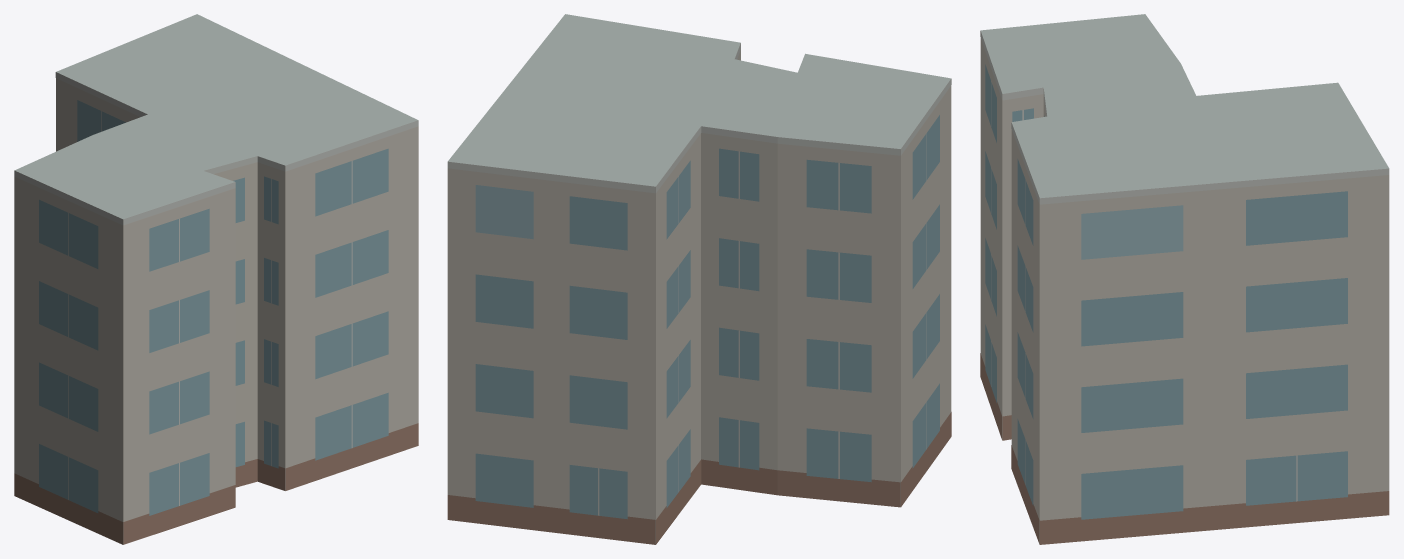
The model's file is survey-upis-32648922.glb.
The picture shows the model from 3 angles, left to right: view 1: azimuth 30°, elevation 25°; view 2: azimuth 150°, elevation 25°; view 3: azimuth 270°, elevation 25°; orthographic projection. The views are drawn at different scales.
Parts seen in each view (by area): view 1: survey-upis-32648922.tmp; view 2: survey-upis-32648922.tmp; view 3: survey-upis-32648922.tmp.
Part boxes in pixels (box(x1,y1,x2,y2)): survey-upis-32648922.tmp: box(14, 14, 418, 544); survey-upis-32648922.tmp: box(447, 14, 951, 544); survey-upis-32648922.tmp: box(980, 14, 1389, 544).
Bounding box in the file's own units: 14.94 × 13.1 × 14.01.
